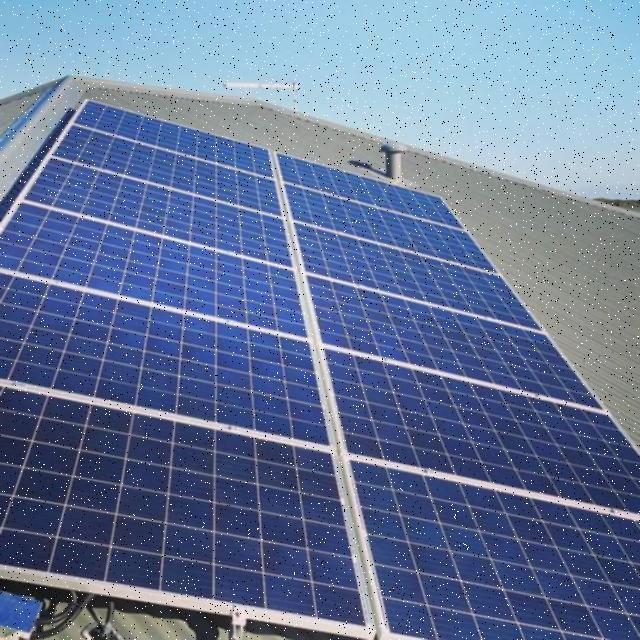clean: (0, 98, 635, 633)
